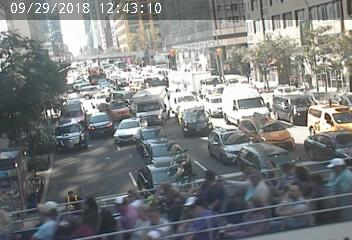car: (232, 83, 265, 116), (137, 91, 169, 119), (58, 124, 93, 147), (144, 163, 180, 184), (249, 144, 279, 166), (178, 107, 211, 127), (88, 110, 112, 133), (253, 121, 280, 138), (215, 132, 239, 151), (317, 140, 345, 156), (279, 90, 300, 110), (314, 108, 339, 124), (118, 120, 137, 141), (59, 101, 82, 118), (151, 146, 177, 160), (141, 126, 164, 141), (110, 101, 131, 116), (202, 73, 221, 88), (81, 86, 99, 93), (207, 95, 219, 105), (173, 94, 189, 101)
